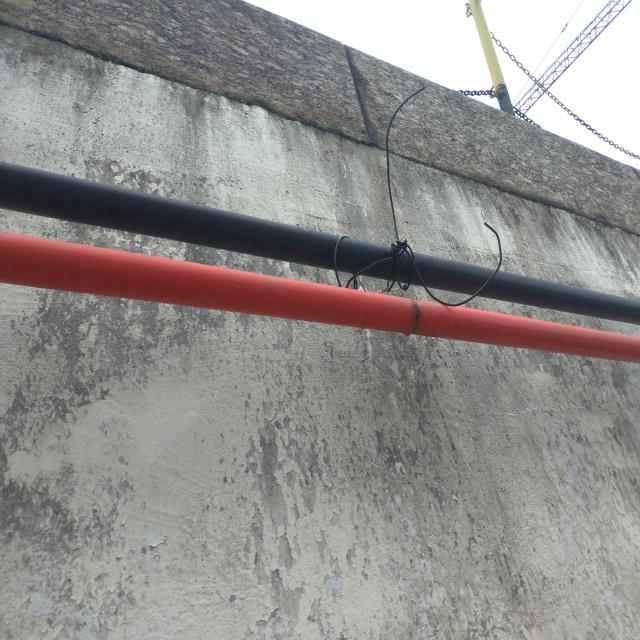gas: (5, 165, 637, 320), (7, 231, 633, 361)
